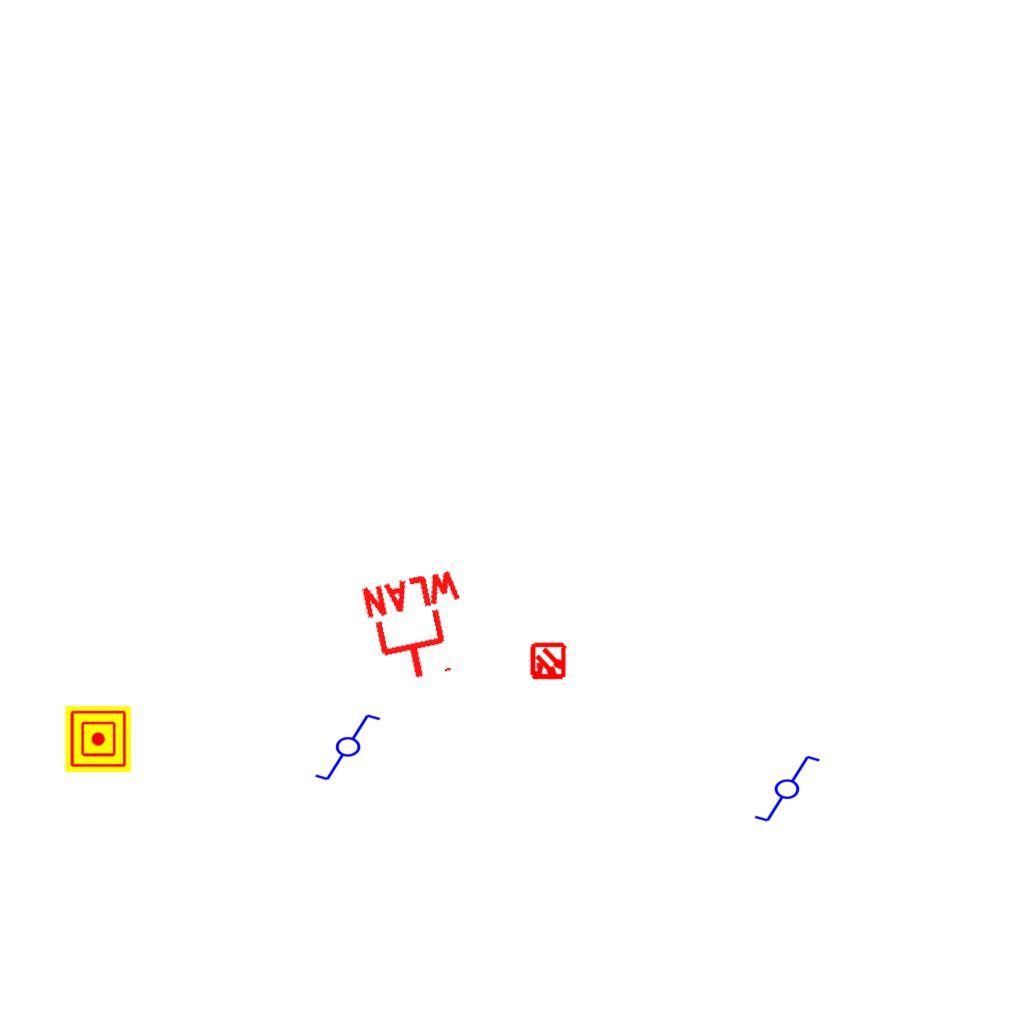NAM-Nichtautomatischer_Melder: (65, 706, 131, 772)
OT_Multisensormelder_(Kombination_RMO_WMD): (519, 633, 577, 691)
WLAN: (356, 565, 481, 691)
Wechselschalter: (744, 752, 822, 824), (313, 712, 391, 784)
